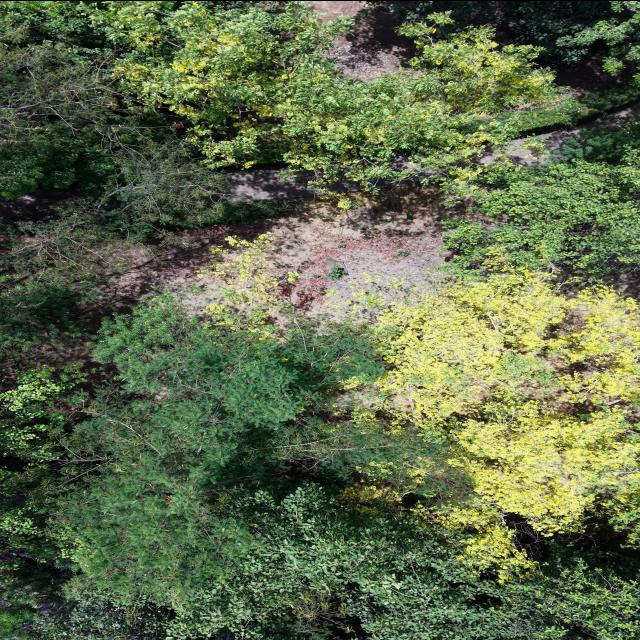DRY_AREA: (2, 187, 455, 379), (91, 169, 462, 319), (54, 187, 462, 323), (99, 169, 463, 315), (91, 173, 444, 318), (103, 188, 445, 316), (267, 184, 443, 313), (267, 188, 444, 316), (269, 191, 441, 309), (276, 191, 441, 309), (508, 98, 639, 165), (307, 1, 413, 81), (509, 99, 639, 164), (307, 1, 412, 80), (308, 1, 412, 80), (309, 1, 413, 80), (554, 55, 632, 98), (228, 165, 317, 200)
VEGETATION_TREE: (0, 1, 639, 639), (1, 282, 636, 639), (3, 1, 578, 193), (377, 274, 639, 533), (0, 42, 226, 229), (446, 125, 639, 280), (370, 1, 637, 110), (447, 150, 639, 277), (373, 1, 611, 64), (555, 1, 639, 74)
